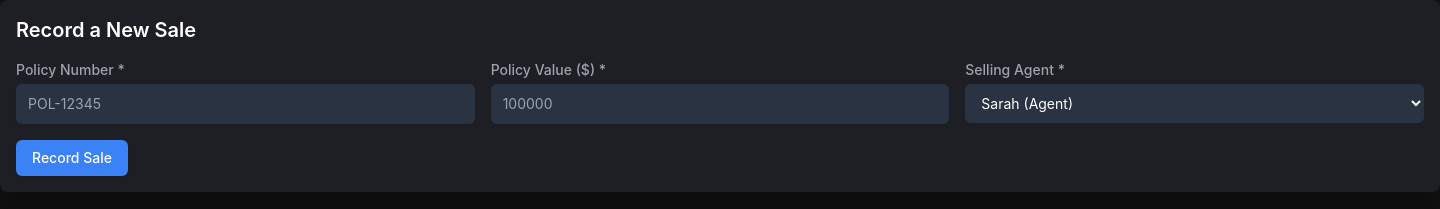
Scenario: SalesForm Component › shows loading state and disables button during submission
Type "POL-LOADING" into the field labelled "Policy Number *" at (245, 104), box [16,84,475,124]
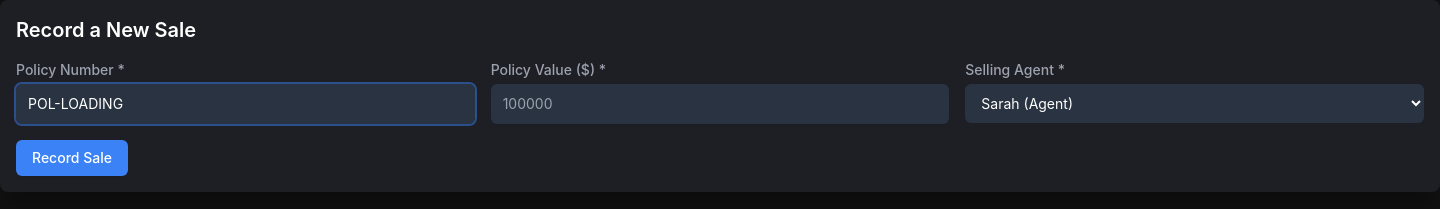
Type "75000" into the number field labelled "Policy Value ($) *" at (720, 104), box [491,84,949,124]
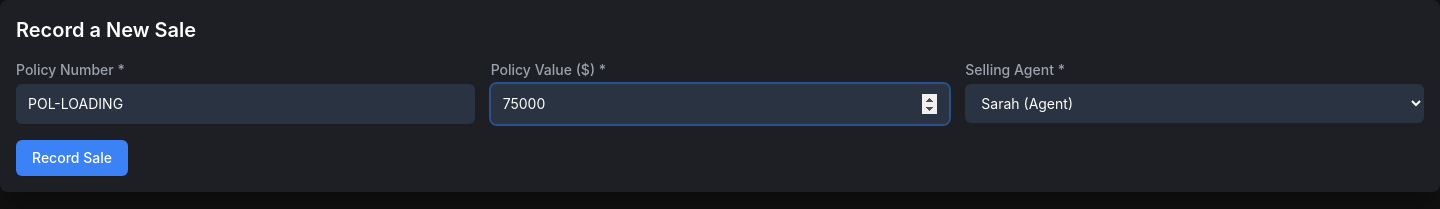
Click the button "Record Sale" at (72, 158), box [16,140,128,176]
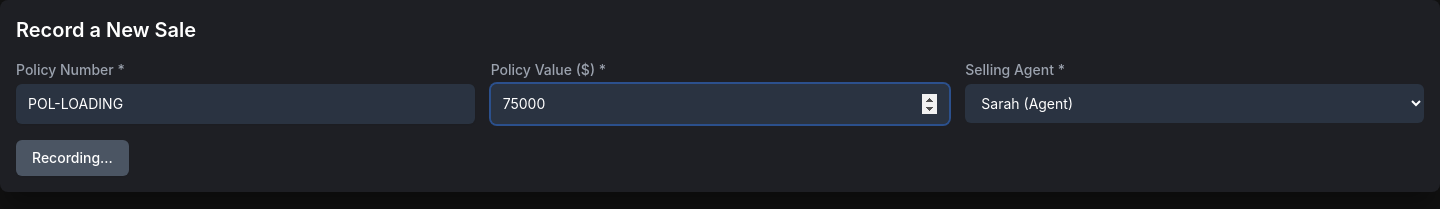
Check: the button "Recording..." is disabled, box [16,140,129,176]
